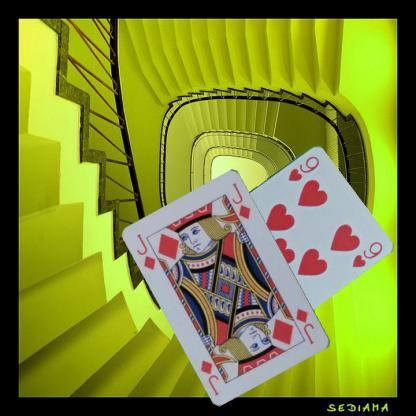9h: (285, 153, 321, 183)
Jd: (135, 231, 157, 273), (294, 306, 316, 346)
